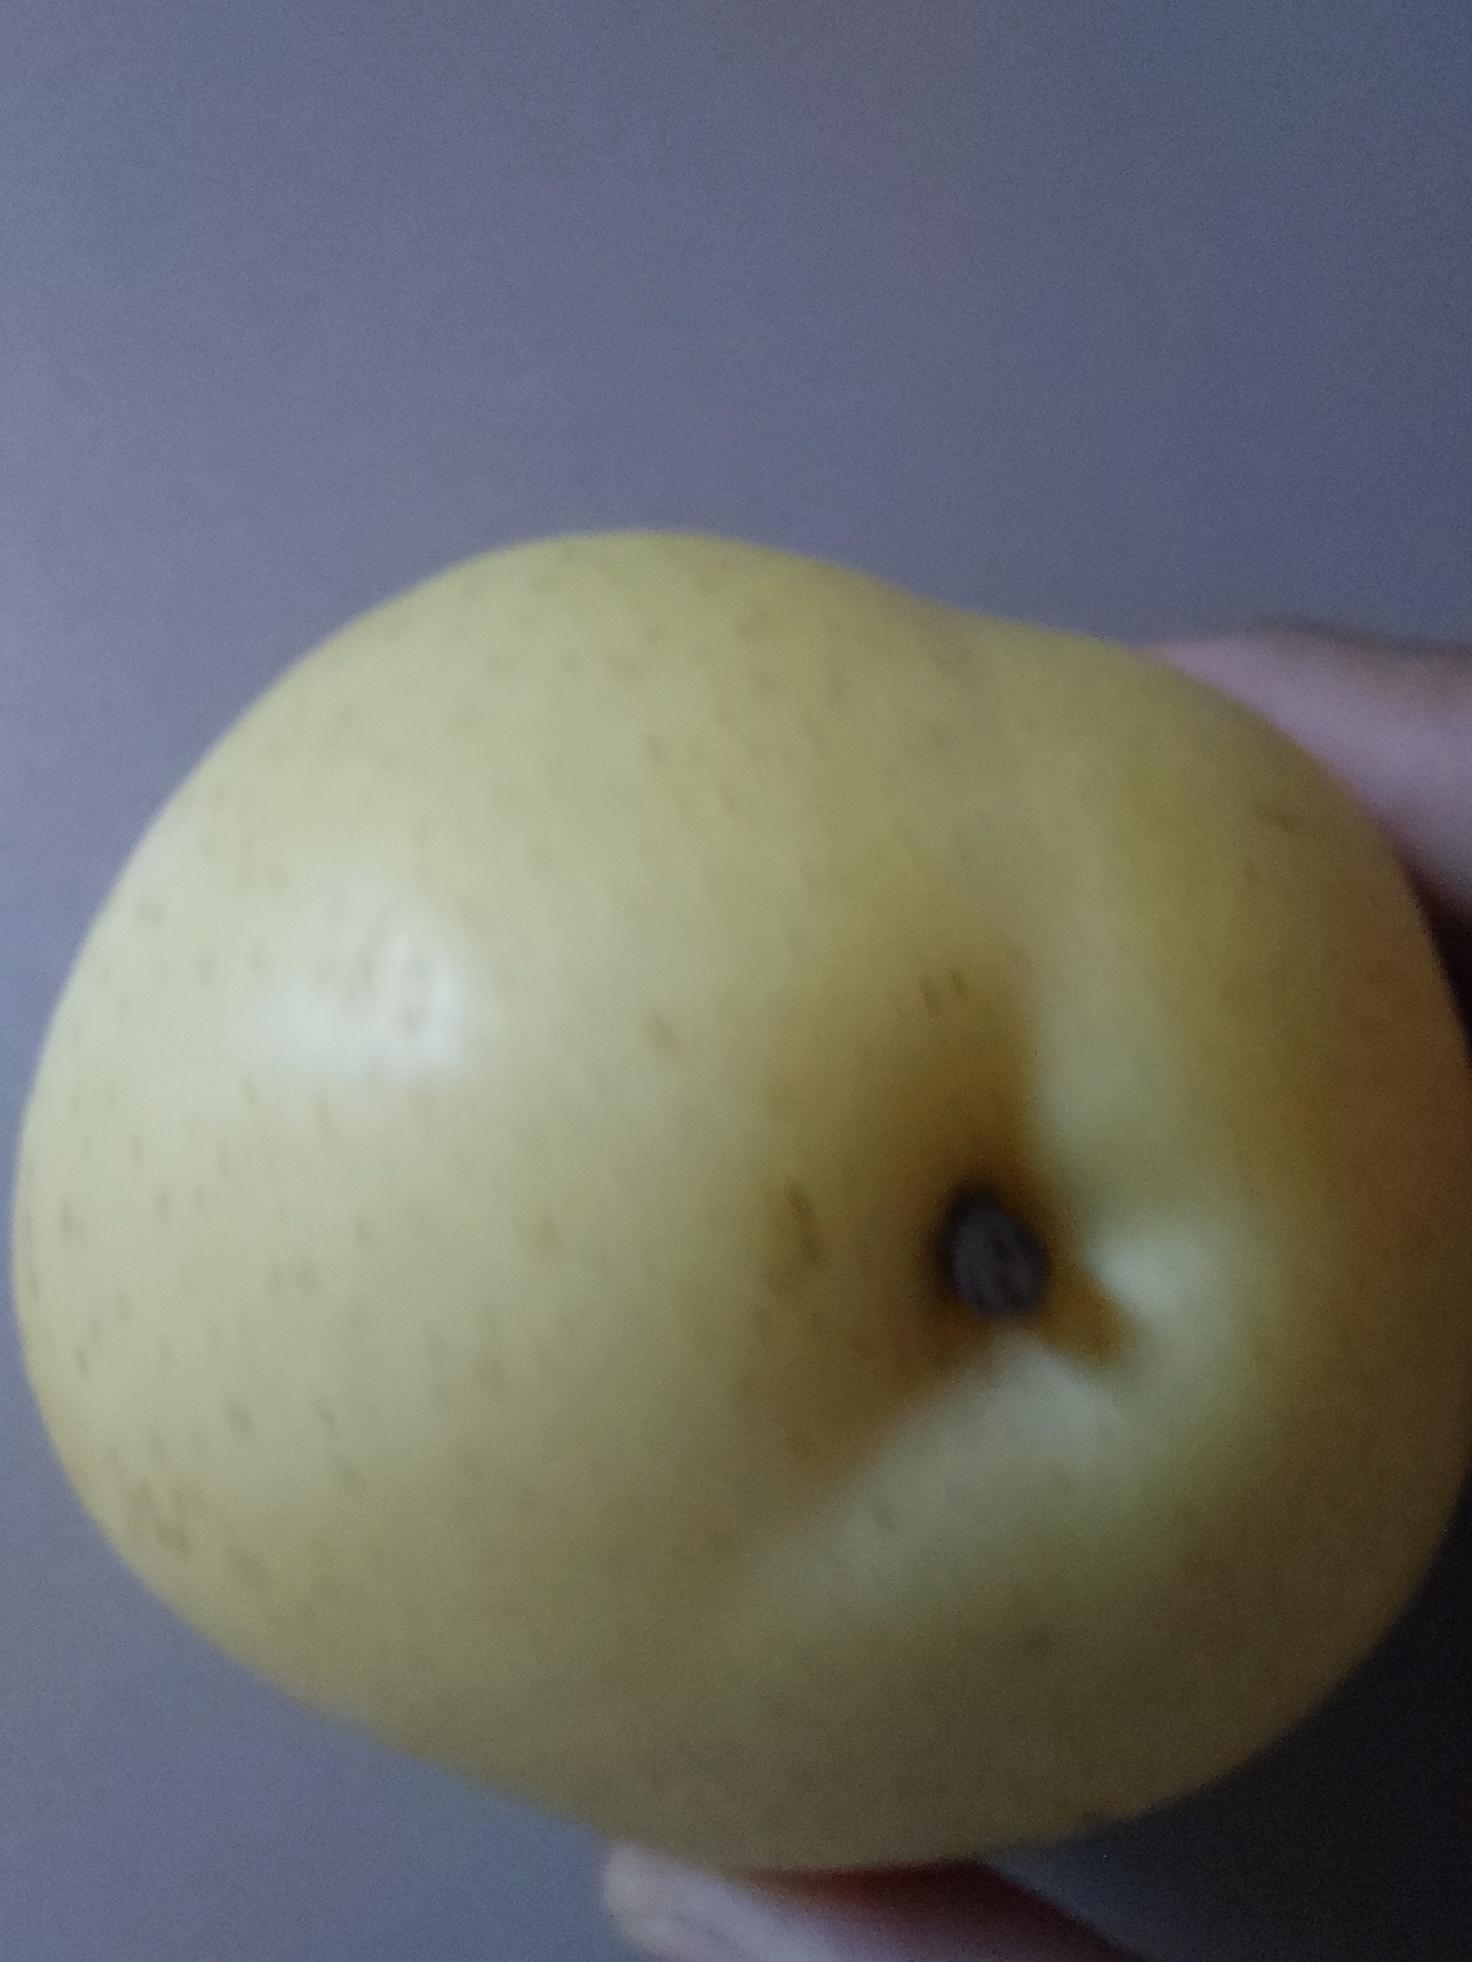Good Pear: (0, 530, 1472, 1880)
